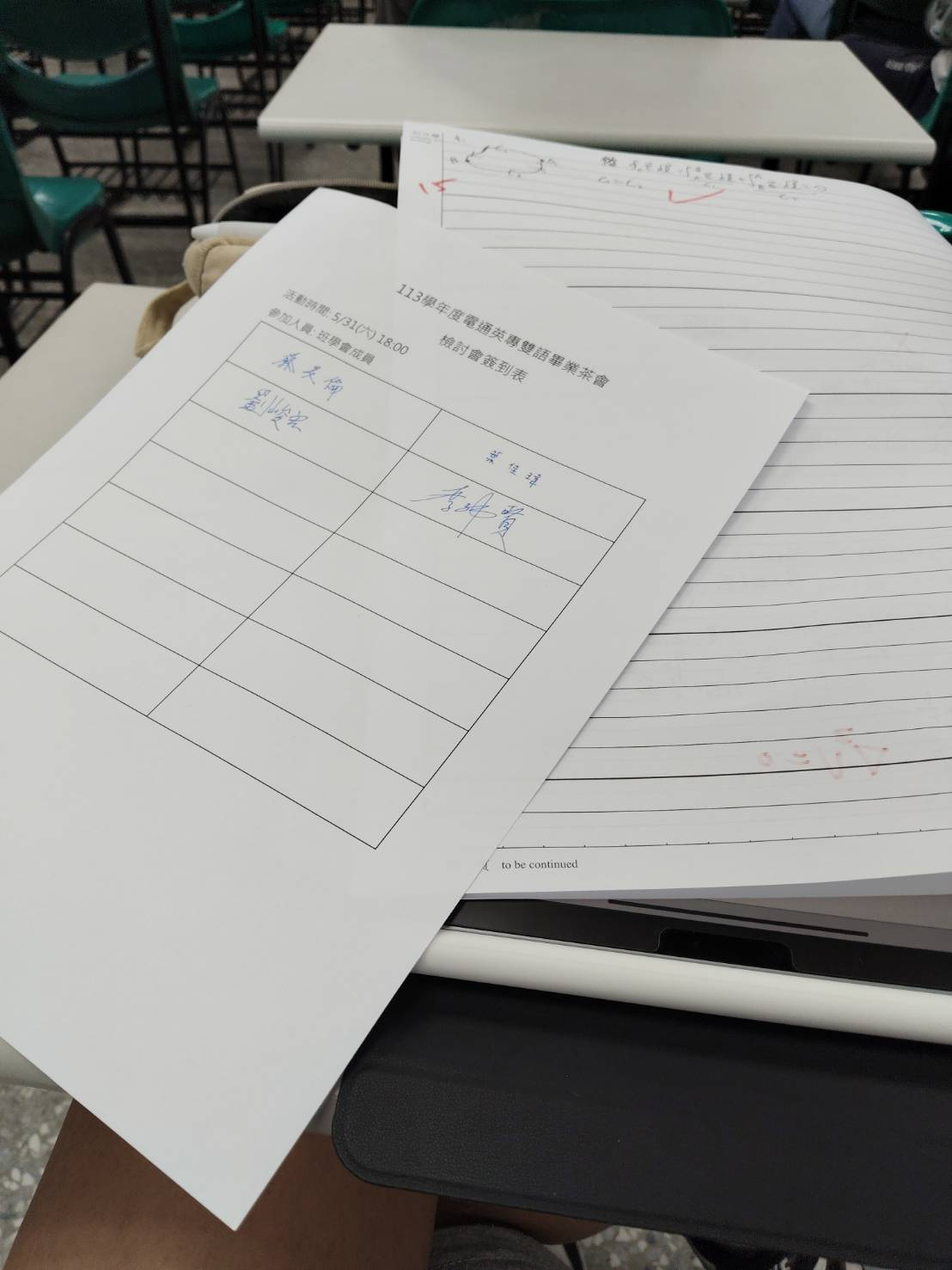paper: (0, 205, 672, 1135), (381, 114, 952, 901)
